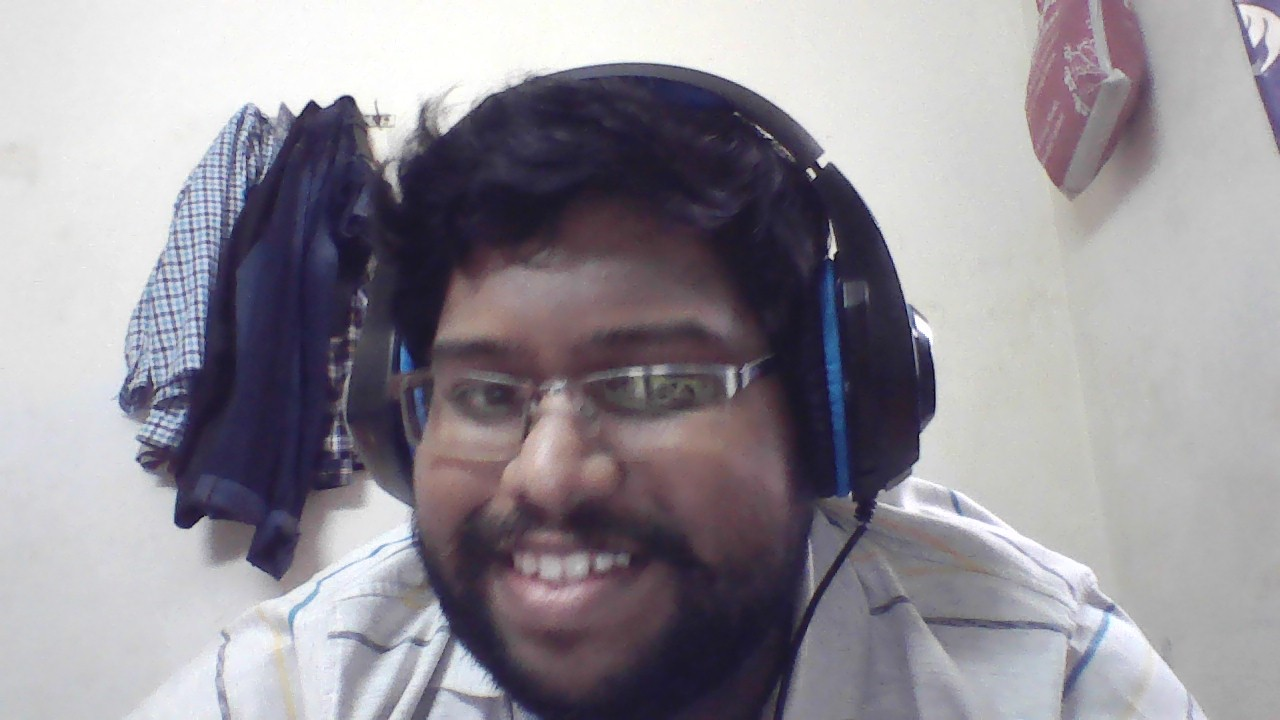NoMask: (405, 417, 836, 636)
